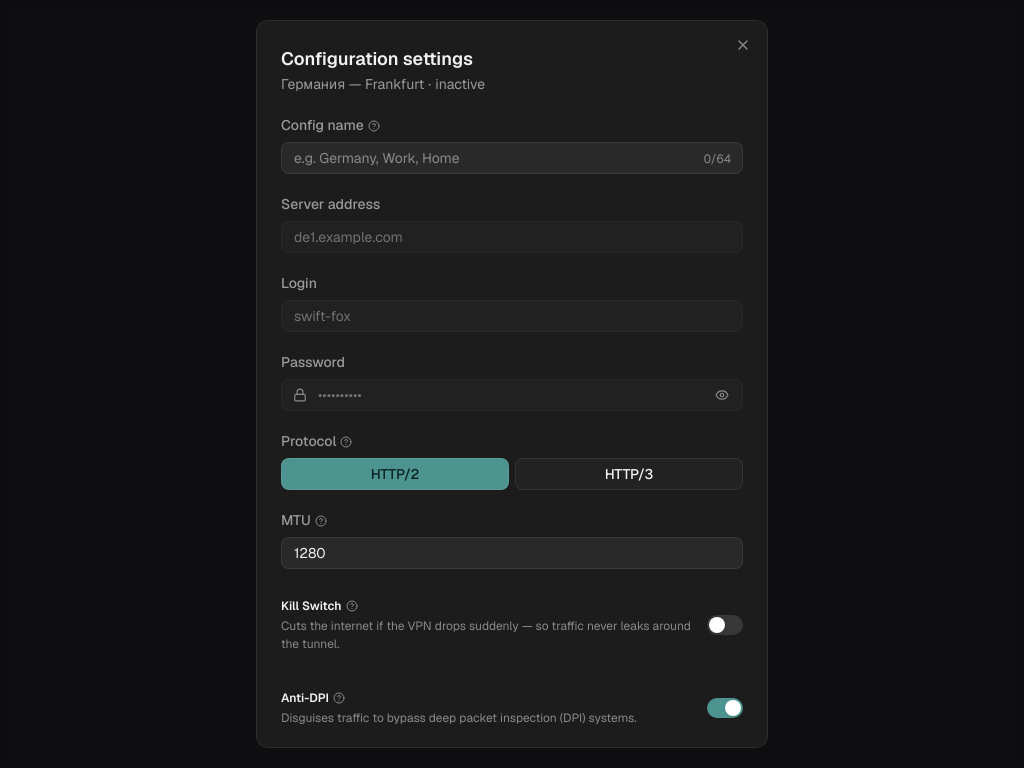
Test case: ConfigEditView (production) › config-name field shows a character counter
Expected: the password field named "Configuration password (read-only)" is shown, [281,379,743,411]
Expected: the text "0/64" is shown, [704,151,731,167]
In the field named "Config name": (512, 158) [281,142,743,174], type "abc"
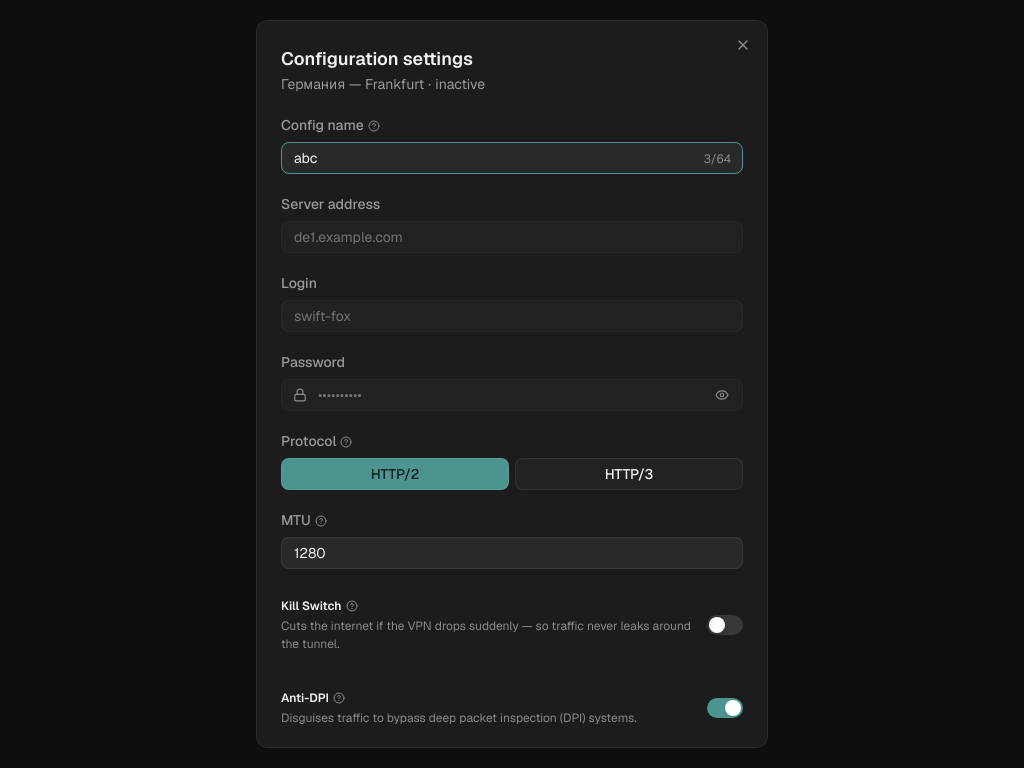
Now the text "3/64" is shown, box [704,151,731,167]
